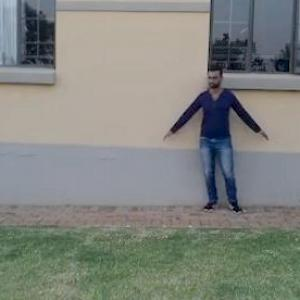land: (166, 66, 270, 224)
